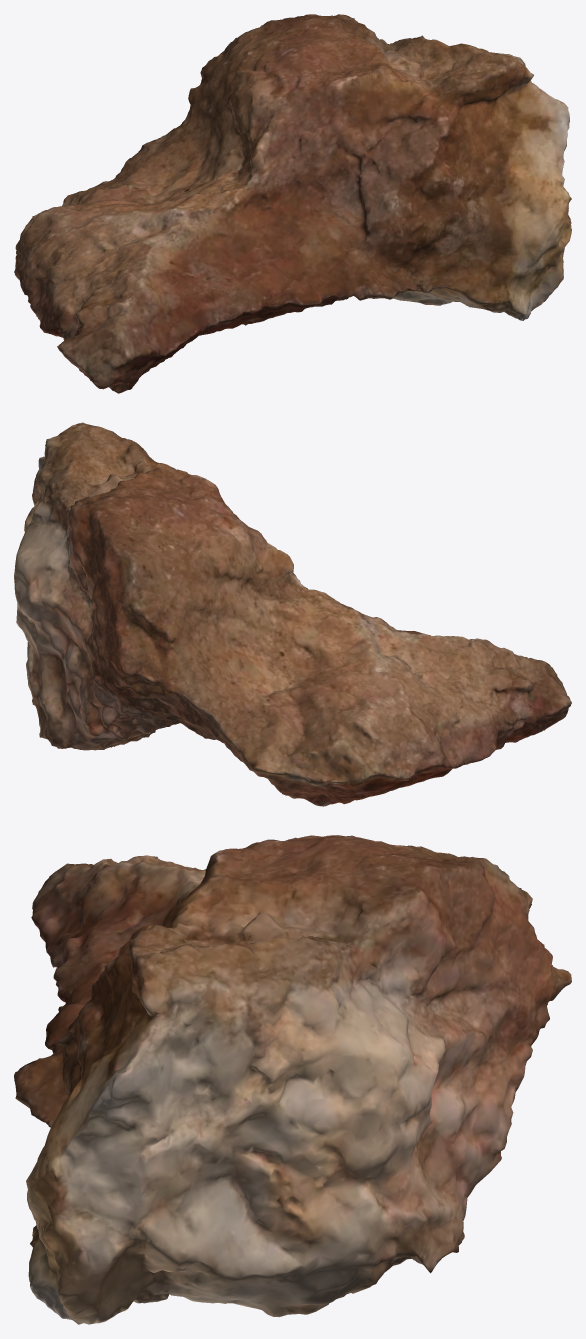
The model's file is Stone_01.glb.
3 views of the same model, one above another, from view 1: azimuth 30°, elevation 25°; view 2: azimuth 150°, elevation 25°; view 3: azimuth 270°, elevation 25° (orthographic). The views are drawn at different scales.
Parts seen in each view (by area): view 1: stone_01; view 2: stone_01; view 3: stone_01.
Boxes of the visible parts, <box> form: stone_01: <box>14,14,571,393</box>; stone_01: <box>14,422,571,806</box>; stone_01: <box>14,835,571,1324</box>.
Size of the model in its own units: 0.1469 by 0.0718 by 0.0891.
Materials: 1 (1 with a texture image).
